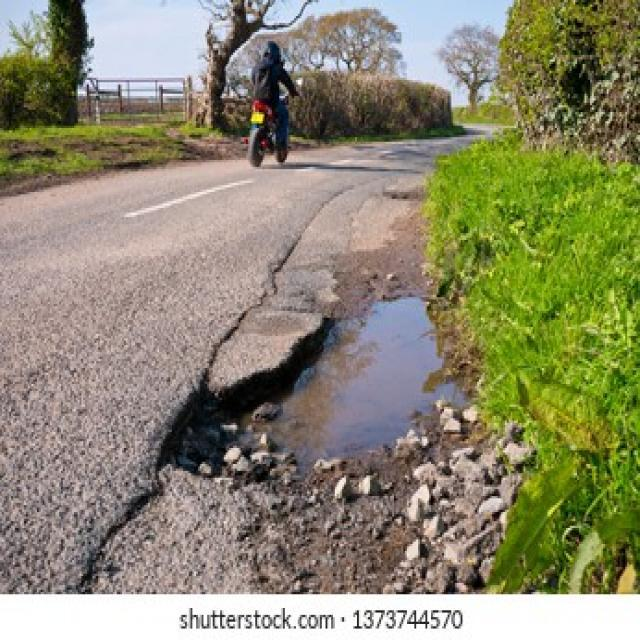Pothole: (153, 297, 470, 482)
